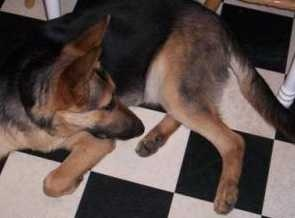dog: (0, 7, 263, 213)
